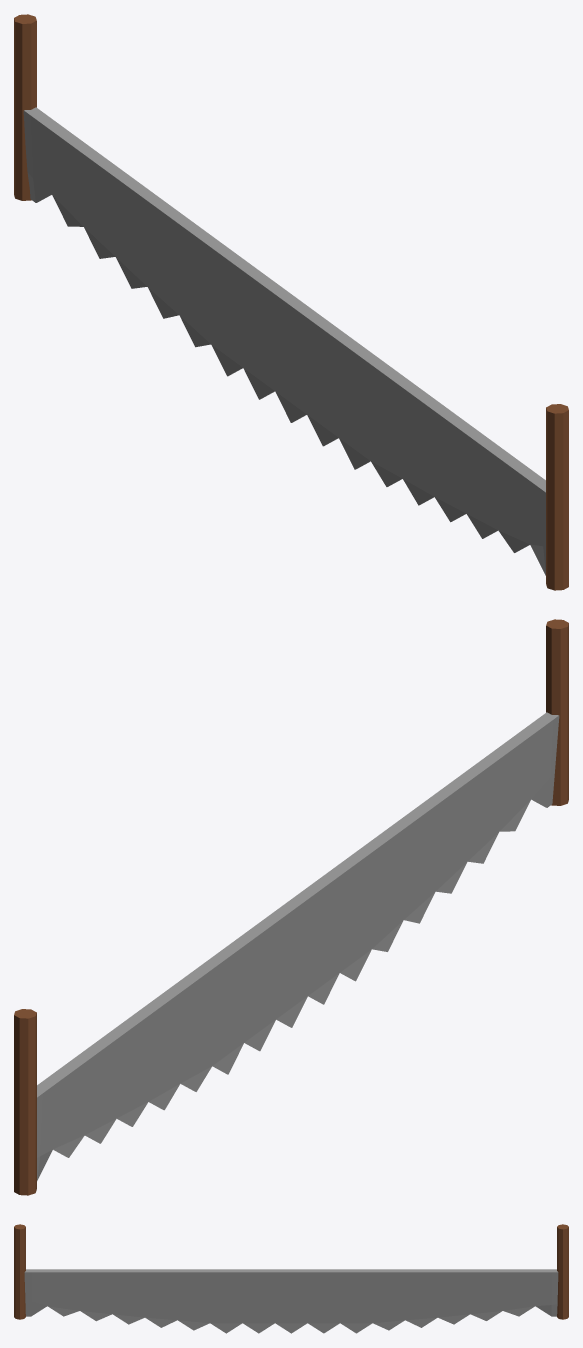
The model's file is saw01.obj.
3 renders of one model, top to bottom at view 1: azimuth 30°, elevation 25°; view 2: azimuth 150°, elevation 25°; view 3: azimuth 270°, elevation 25°, orthographic. The views are drawn at different scales.
Visible parts, largest first — view 1: Cube; view 2: Cube; view 3: Cube.
Boxes of the visible parts, left/top/right/bottom form: Cube: left=14, top=14, right=568, bottom=590; Cube: left=14, top=619, right=568, bottom=1195; Cube: left=14, top=1224, right=568, bottom=1333.
Bounding box in the file's own units: 0.0306 × 0.2988 × 1.41.
Materials: 1 (1 with a texture image).
